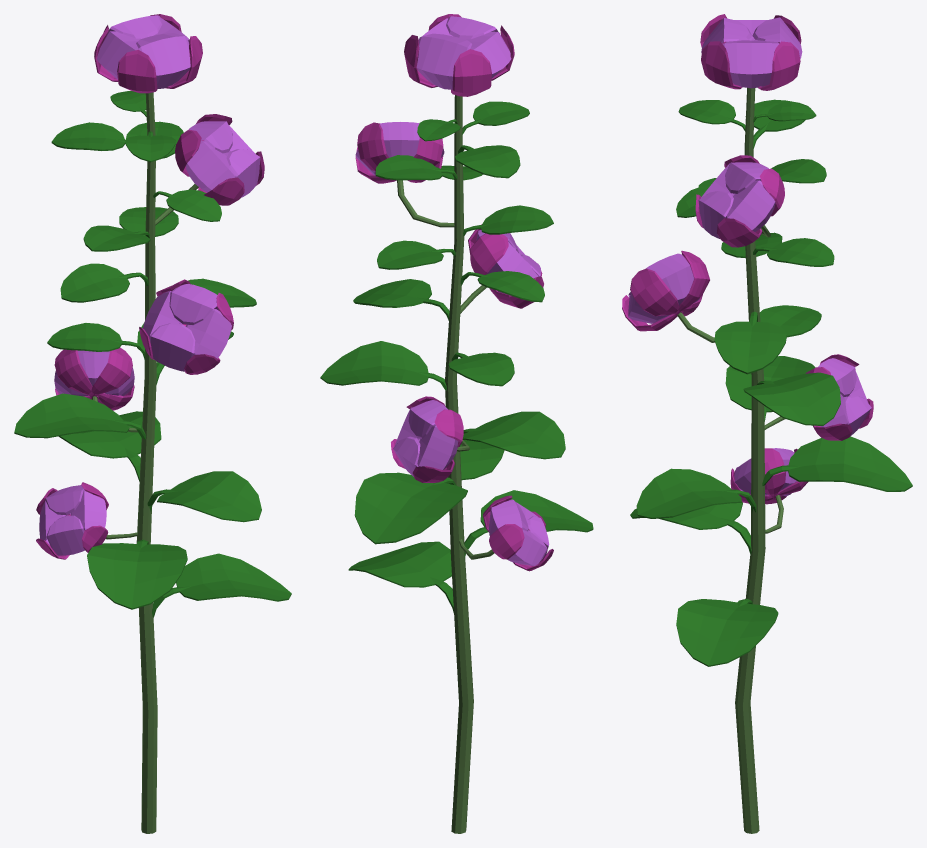
The model's file is Blossom_2.fbx.
3 views of the same model, side by side, from view 1: azimuth 30°, elevation 25°; view 2: azimuth 150°, elevation 25°; view 3: azimuth 270°, elevation 25° (orthographic).
Visible parts, largest first — view 1: Blossom_2; view 2: Blossom_2; view 3: Blossom_2.
Part boxes in pixels (box(x1,y1,x2,y2)): Blossom_2: box(14, 14, 291, 833); Blossom_2: box(320, 14, 593, 833); Blossom_2: box(622, 14, 912, 833).
Size of the model in its own units: 30.85 by 98.57 by 32.29.
